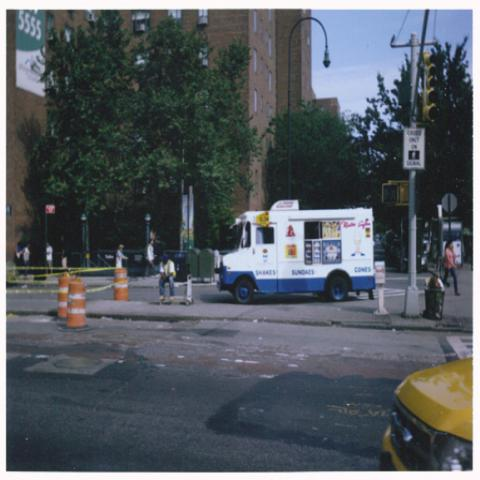car: (379, 356, 474, 471)
truck: (218, 200, 376, 306)
